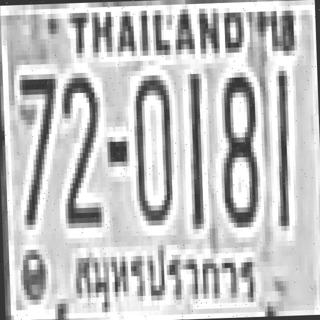N00: (132, 70, 173, 221)
N01: (186, 68, 205, 224), (273, 68, 292, 224), (184, 68, 203, 224), (272, 68, 290, 224)
N02: (59, 70, 100, 221)
N07: (18, 69, 58, 225)
N08: (218, 67, 258, 223)
P57: (62, 232, 262, 318)
